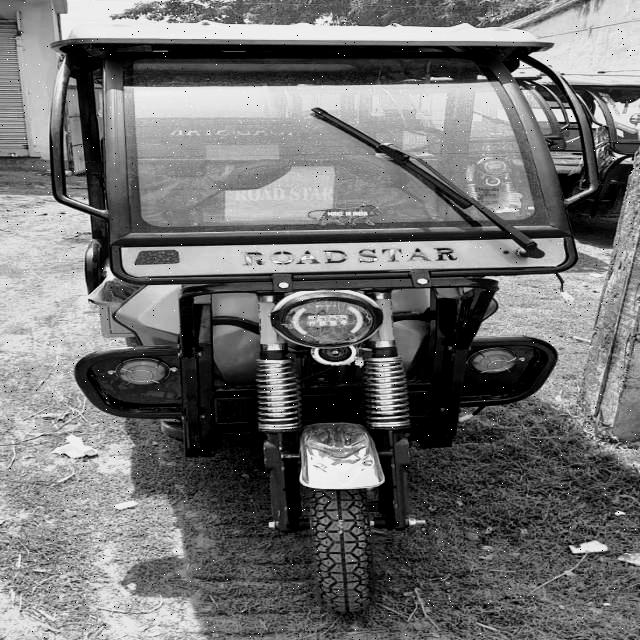Toto: (62, 16, 592, 616)
